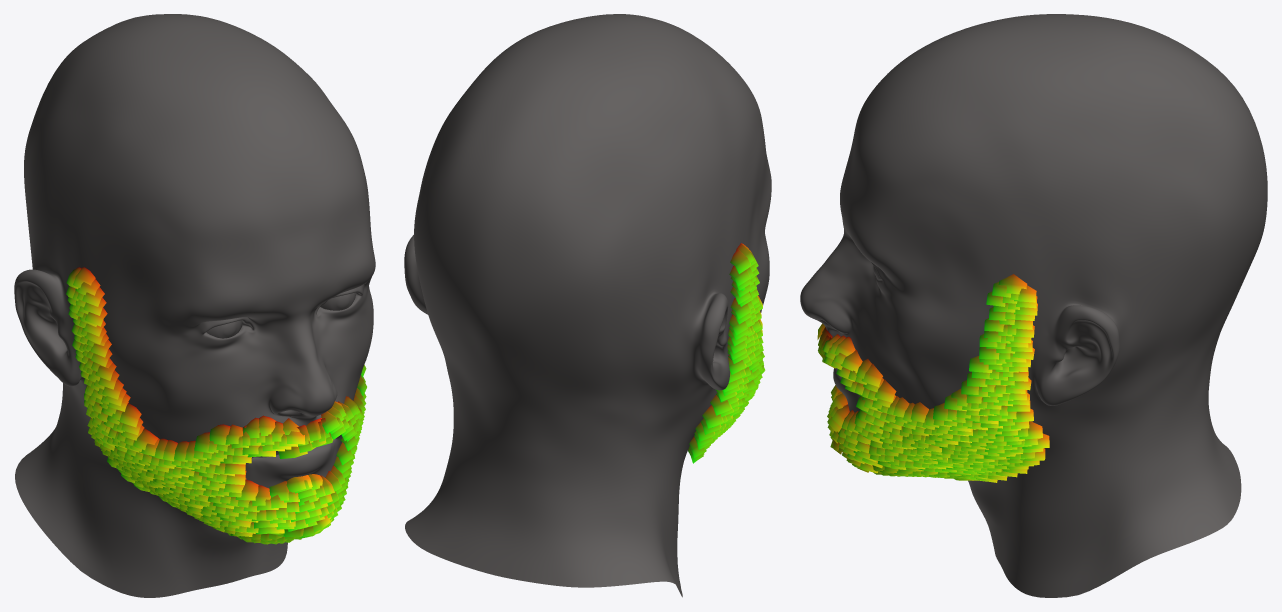
The model's file is Head_Beard_7.FBX.
The picture shows the model from 3 angles, left to right: view 1: azimuth 30°, elevation 25°; view 2: azimuth 150°, elevation 25°; view 3: azimuth 270°, elevation 25°; orthographic projection.
Visible parts, largest first — view 1: Head, Beard 7, Eye; view 2: Head, Beard 7; view 3: Head, Beard 7.
Part boxes in pixels (box(x1,y1,x2,y2)): Head: box(14, 14, 375, 597); Beard 7: box(66, 267, 366, 544); Eye: box(206, 292, 356, 338); Head: box(404, 14, 771, 597); Beard 7: box(688, 243, 765, 463); Head: box(800, 14, 1267, 597); Beard 7: box(817, 274, 1049, 482).
Bounding box in the file's own units: 17.79 × 29.08 × 23.29.
